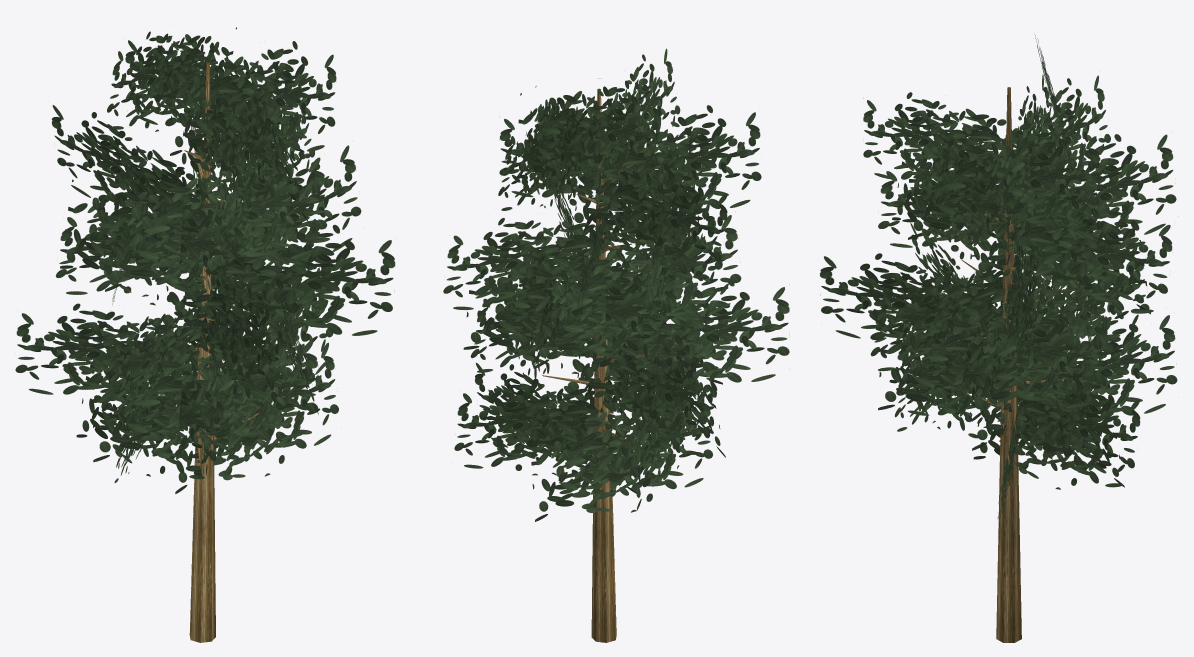
File: tree-lod.glb
3 views of the same model, side by side, from view 1: azimuth 30°, elevation 25°; view 2: azimuth 150°, elevation 25°; view 3: azimuth 270°, elevation 25° (orthographic). The views are drawn at different scales.
Visible parts, largest first — view 1: Tall crown LOD, Bark.1368; view 2: Tall crown LOD, Bark.1368; view 3: Tall crown LOD, Bark.1368.
Part boxes in pixels (x1,y1,x2,y2): Tall crown LOD: [15, 27, 395, 494]; Bark.1368: [167, 61, 273, 642]; Tall crown LOD: [443, 48, 789, 521]; Bark.1368: [542, 88, 661, 642]; Tall crown LOD: [820, 34, 1177, 527]; Bark.1368: [961, 87, 1063, 642].
Bounding box in the file's own units: 6.89 × 12.37 × 6.87.
Materials: 2 (2 with a texture image).
